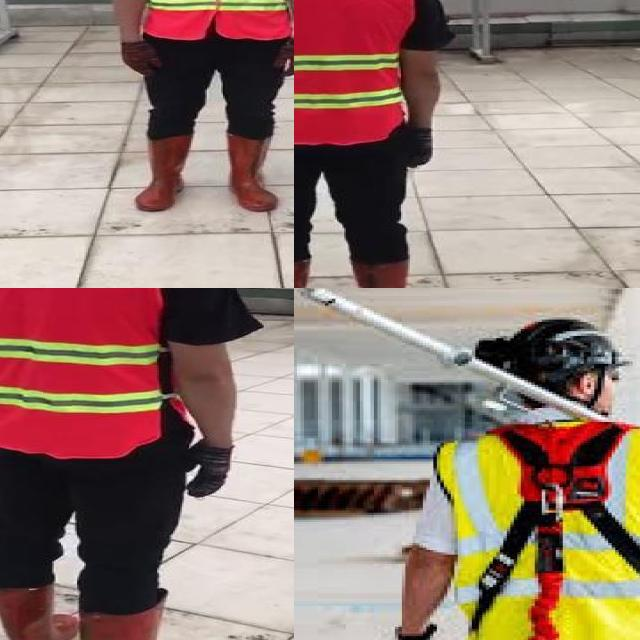Harness: (470, 422, 640, 632)
boots: (75, 595, 203, 640), (223, 131, 278, 213), (133, 135, 190, 212), (0, 583, 75, 640), (351, 261, 417, 288)
hand_glove: (180, 444, 230, 497), (120, 41, 166, 76), (405, 127, 433, 167), (271, 39, 294, 78)
head_helmet: (0, 288, 260, 640)
person: (294, 0, 453, 288), (104, 0, 294, 227)
vest: (0, 288, 180, 457), (294, 0, 413, 145), (143, 0, 294, 41)
